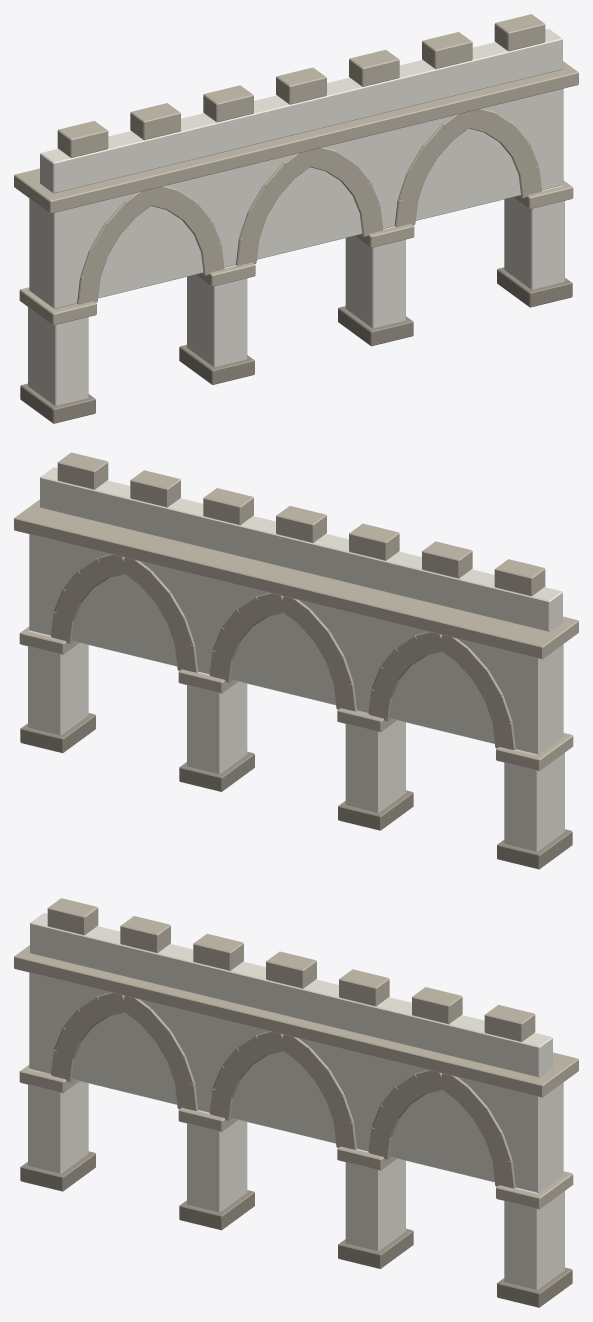
File: TC_ENV_ArcadeBay_V1.glb
3 renders of one model, top to bottom at view 1: azimuth 30°, elevation 25°; view 2: azimuth 150°, elevation 25°; view 3: azimuth 330°, elevation 25°, orthographic.
Parts seen in each view (by area): view 1: TC_ENV_ArcadeBay_V1; view 2: TC_ENV_ArcadeBay_V1; view 3: TC_ENV_ArcadeBay_V1.
Boxes of the visible parts, <box> form: TC_ENV_ArcadeBay_V1: <box>14,14,578,423</box>; TC_ENV_ArcadeBay_V1: <box>14,452,578,869</box>; TC_ENV_ArcadeBay_V1: <box>14,898,578,1307</box>.
Bounding box in the file's own units: 11 × 5.48 × 1.32.
